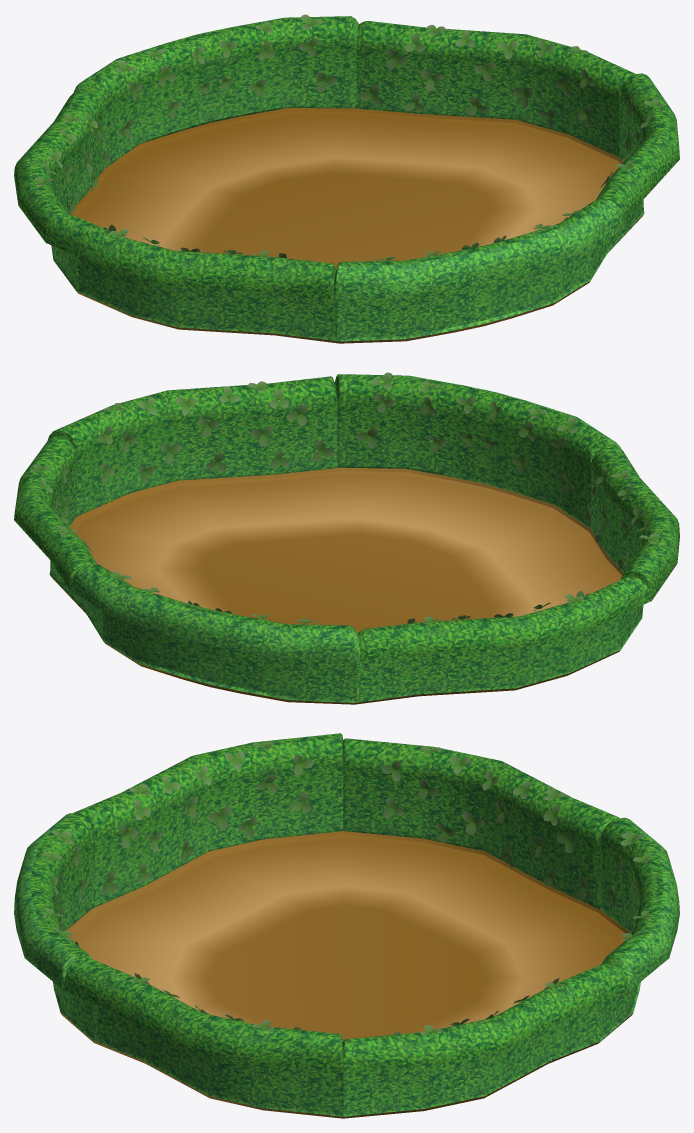
File: GardenBed_Leaves.fbx
The picture shows the model from 3 angles, top to bottom: view 1: azimuth 30°, elevation 25°; view 2: azimuth 150°, elevation 25°; view 3: azimuth 270°, elevation 25°; orthographic projection. The views are drawn at different scales.
Parts seen in each view (by area): view 1: Garden_hedge; view 2: Garden_hedge; view 3: Garden_hedge.
Part boxes in pixels (x1,y1,x2,y2): Garden_hedge: [14, 14, 679, 343]; Garden_hedge: [14, 372, 679, 704]; Garden_hedge: [14, 733, 679, 1118].
Size of the model in its own units: 1390 by 204 by 1232.
Materials: 2 (2 with a texture image).
